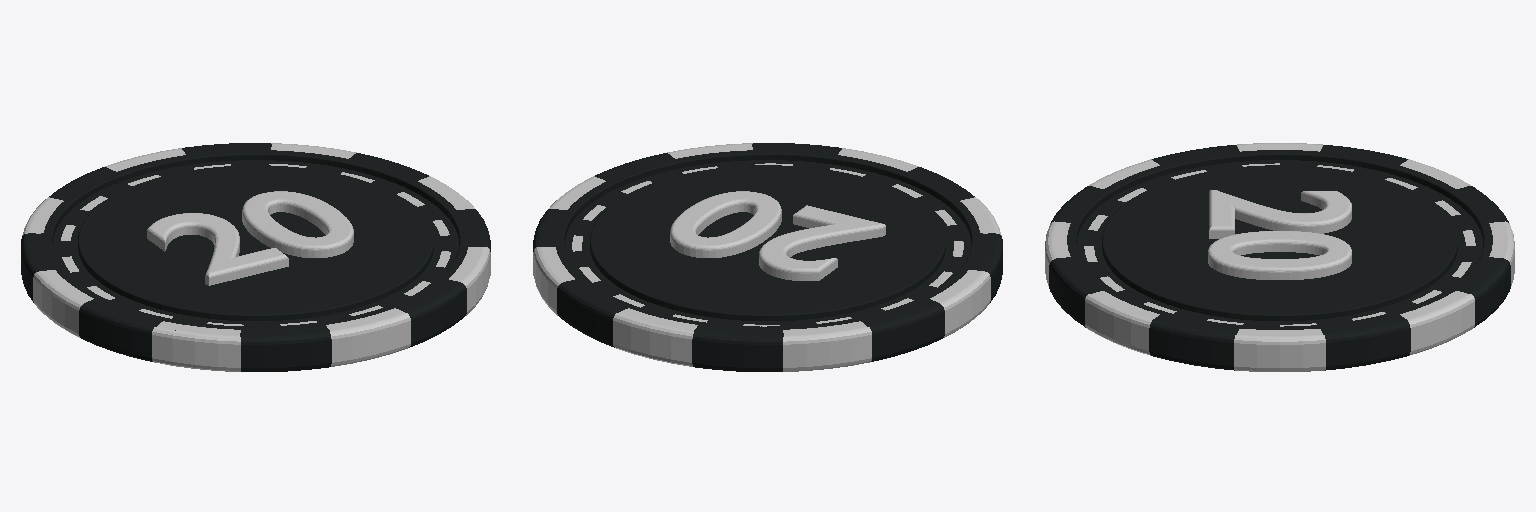
The model's file is poker_chip_20.obj.
3 views of the same model, side by side, from view 1: azimuth 30°, elevation 25°; view 2: azimuth 150°, elevation 25°; view 3: azimuth 270°, elevation 25° (orthographic).
Visible parts, largest first — view 1: obj1, obj2, obj4; view 2: obj1, obj2, obj4; view 3: obj1, obj2, obj4.
Boxes of the visible parts, <box> form: obj1: <box>21,143,490,371</box>; obj2: <box>22,143,490,371</box>; obj4: <box>147,191,353,285</box>; obj1: <box>533,143,1002,371</box>; obj2: <box>533,143,1001,371</box>; obj4: <box>670,191,885,280</box>; obj1: <box>1049,145,1510,370</box>; obj2: <box>1045,143,1514,371</box>; obj4: <box>1208,190,1351,279</box>.
Bounding box in the file's own units: 0.0802 × 0.0102 × 0.0802.